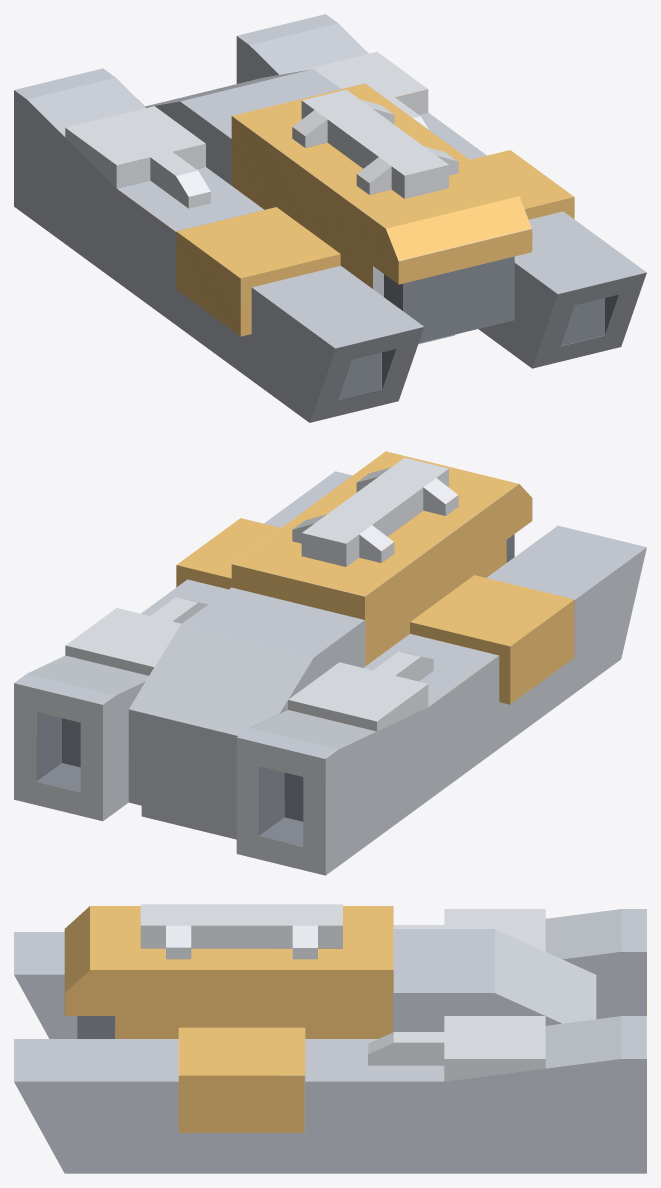
File: weaponBarrel_space.fbx
3 renders of one model, top to bottom at view 1: azimuth 30°, elevation 25°; view 2: azimuth 150°, elevation 25°; view 3: azimuth 270°, elevation 25°, orthographic.
Visible parts, largest first — view 1: craft_cargoB.001; view 2: craft_cargoB.001; view 3: craft_cargoB.001.
Boxes of the visible parts, x1=… form: craft_cargoB.001: x1=14, y1=14, x2=646, y2=422; craft_cargoB.001: x1=14, y1=451, x2=646, y2=875; craft_cargoB.001: x1=14, y1=904, x2=646, y2=1173.
Bounding box in the file's own units: 150 × 90 × 250.
